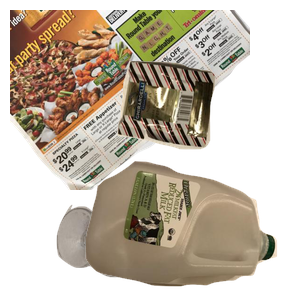glass: (54, 202, 193, 300)
paper: (10, 10, 250, 190)
plastic: (83, 159, 300, 300)
trash: (115, 58, 300, 200)
